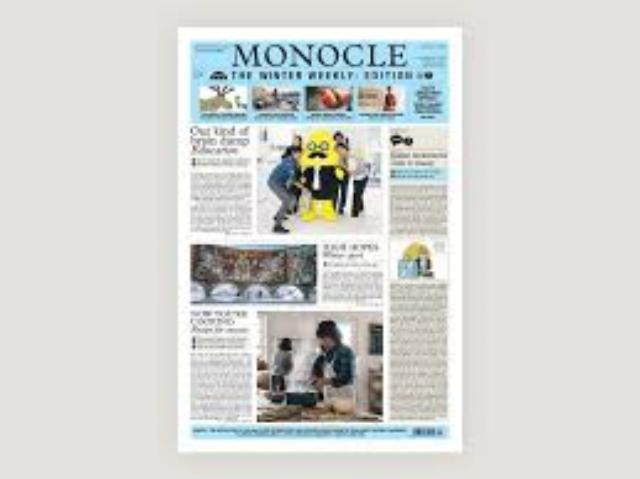cardboard paper: (175, 25, 457, 447)
